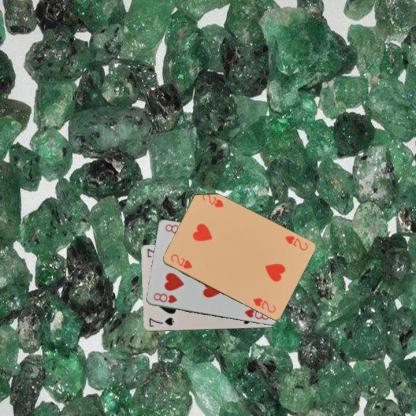2h: (282, 233, 309, 252), (168, 252, 194, 270)
7s: (146, 316, 175, 328)
8h: (151, 290, 178, 304)
